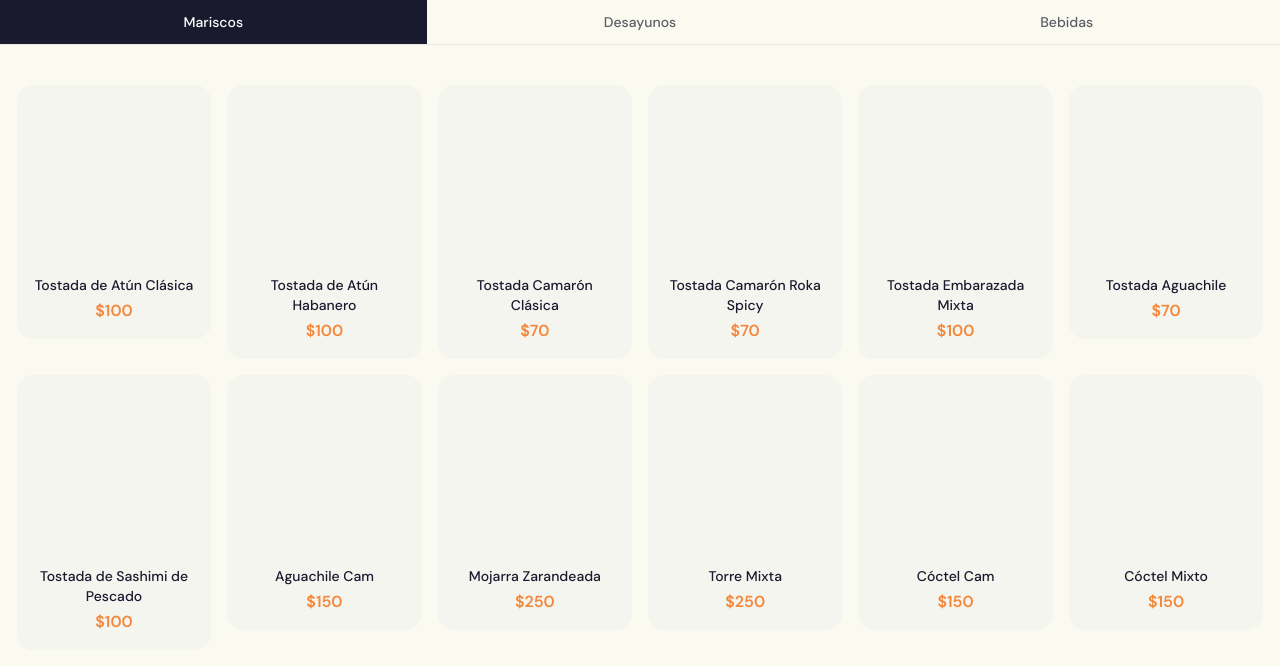
Test case: Menu Page Integration — Filtrado y Modal › clicking a MenuCard opens DetailModal with correct item data (name, description, price)
// Click the first mariscos item card
Step 1. Click the button "Tostada de Atún Clásica $100" → (114, 212), box [17,85,211,339]
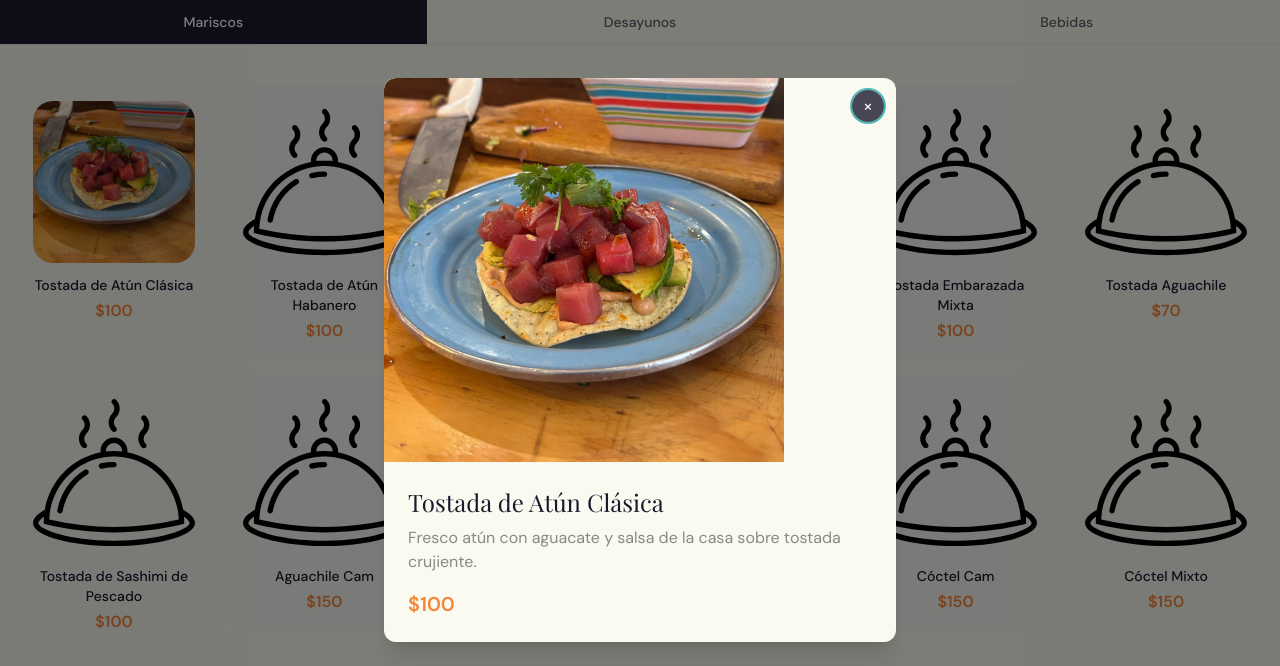
Expected: the dialog is shown, [384,78,896,642]
Expected: the heading "Tostada de Atún Clásica" is shown, [408,486,664,518]
Expected: the text "Fresco atún con aguacate y salsa de la casa sobre tostada crujiente." is shown, [408,526,872,574]
